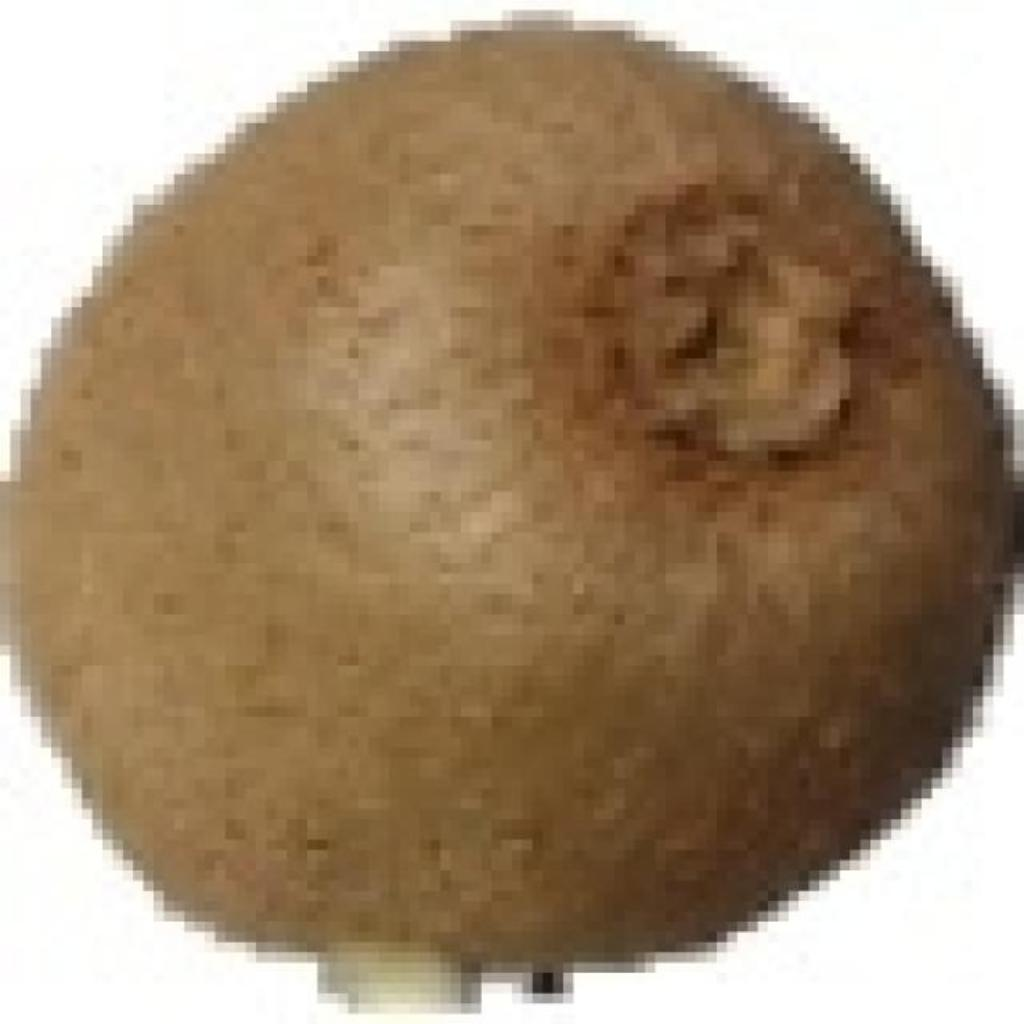kiwi: (11, 15, 1005, 988)
